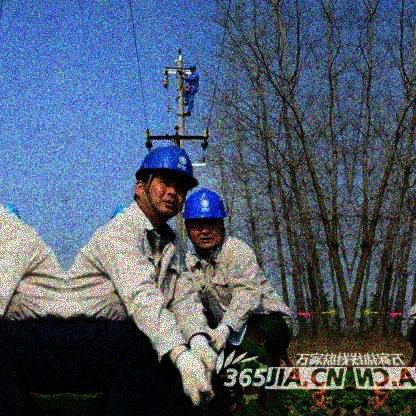helmet: (133, 146, 201, 222), (184, 189, 228, 250), (190, 63, 197, 72)
